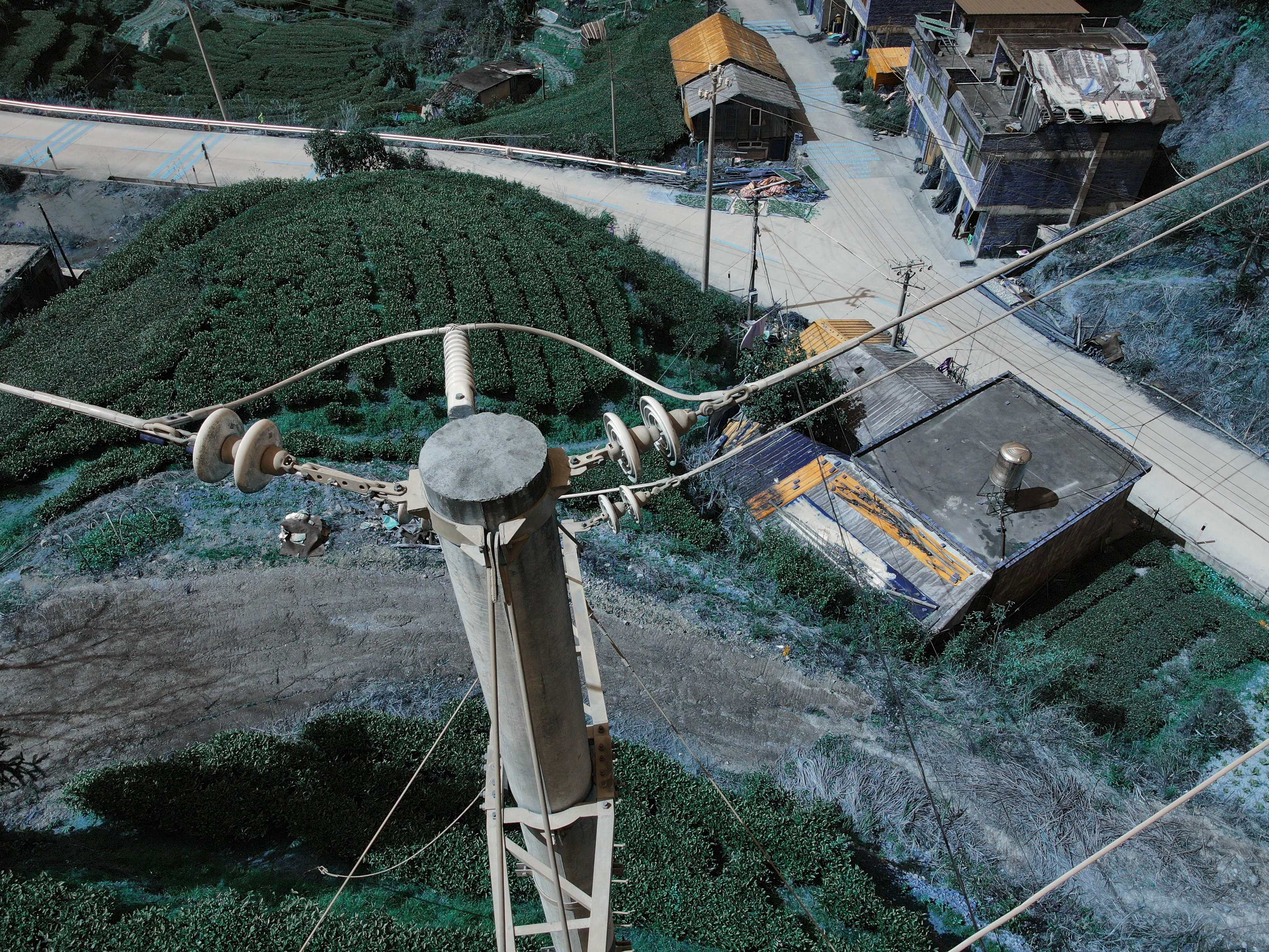severe_soiling_no_discharge_whole: (189, 407, 297, 496), (596, 393, 697, 485), (436, 320, 478, 414)
